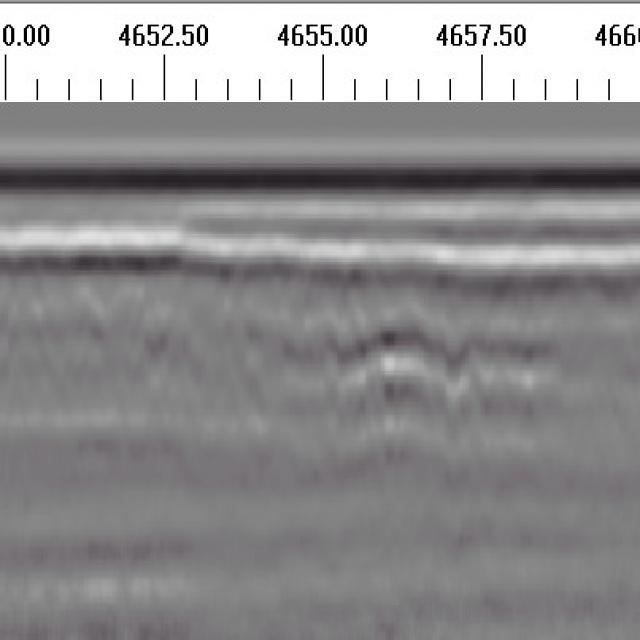loose: (323, 310, 554, 439)
